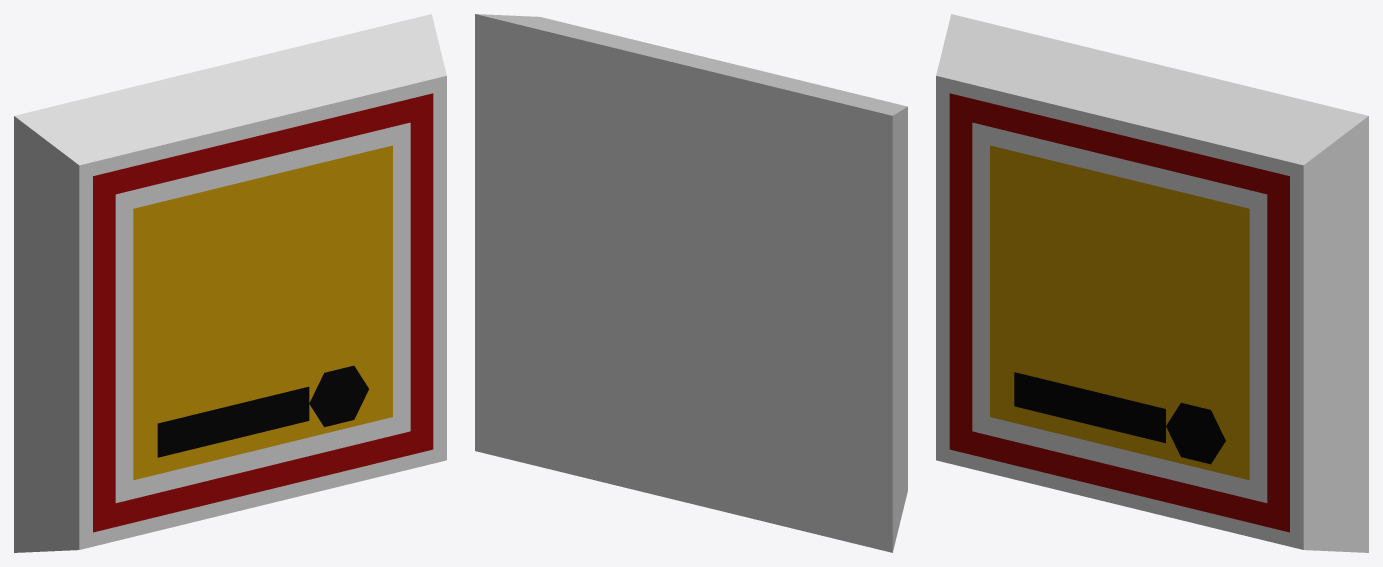
Rendered from SciFi_Semiotic_Radiation_Hazard_01.fbx.
3 views of the same model, side by side, from view 1: azimuth 30°, elevation 25°; view 2: azimuth 150°, elevation 25°; view 3: azimuth 330°, elevation 25° (orthographic).
Parts seen in each view (by area): view 1: Model; view 2: Model; view 3: Model.
Boxes of the visible parts, left/top/right/bottom form: Model: left=14, top=14, right=446, bottom=552; Model: left=475, top=14, right=907, bottom=552; Model: left=936, top=14, right=1368, bottom=552.
Size of the model in its own units: 251 by 251 by 41.83.
